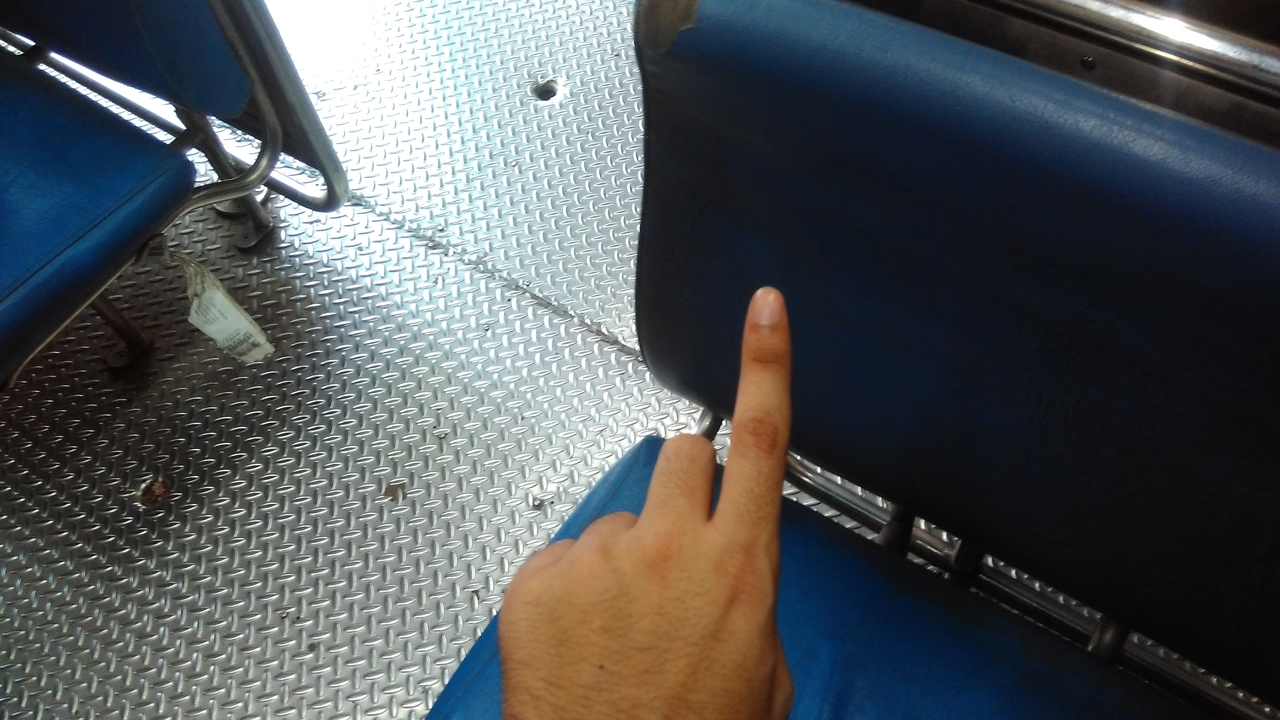fingertip: (740, 282, 800, 340)
